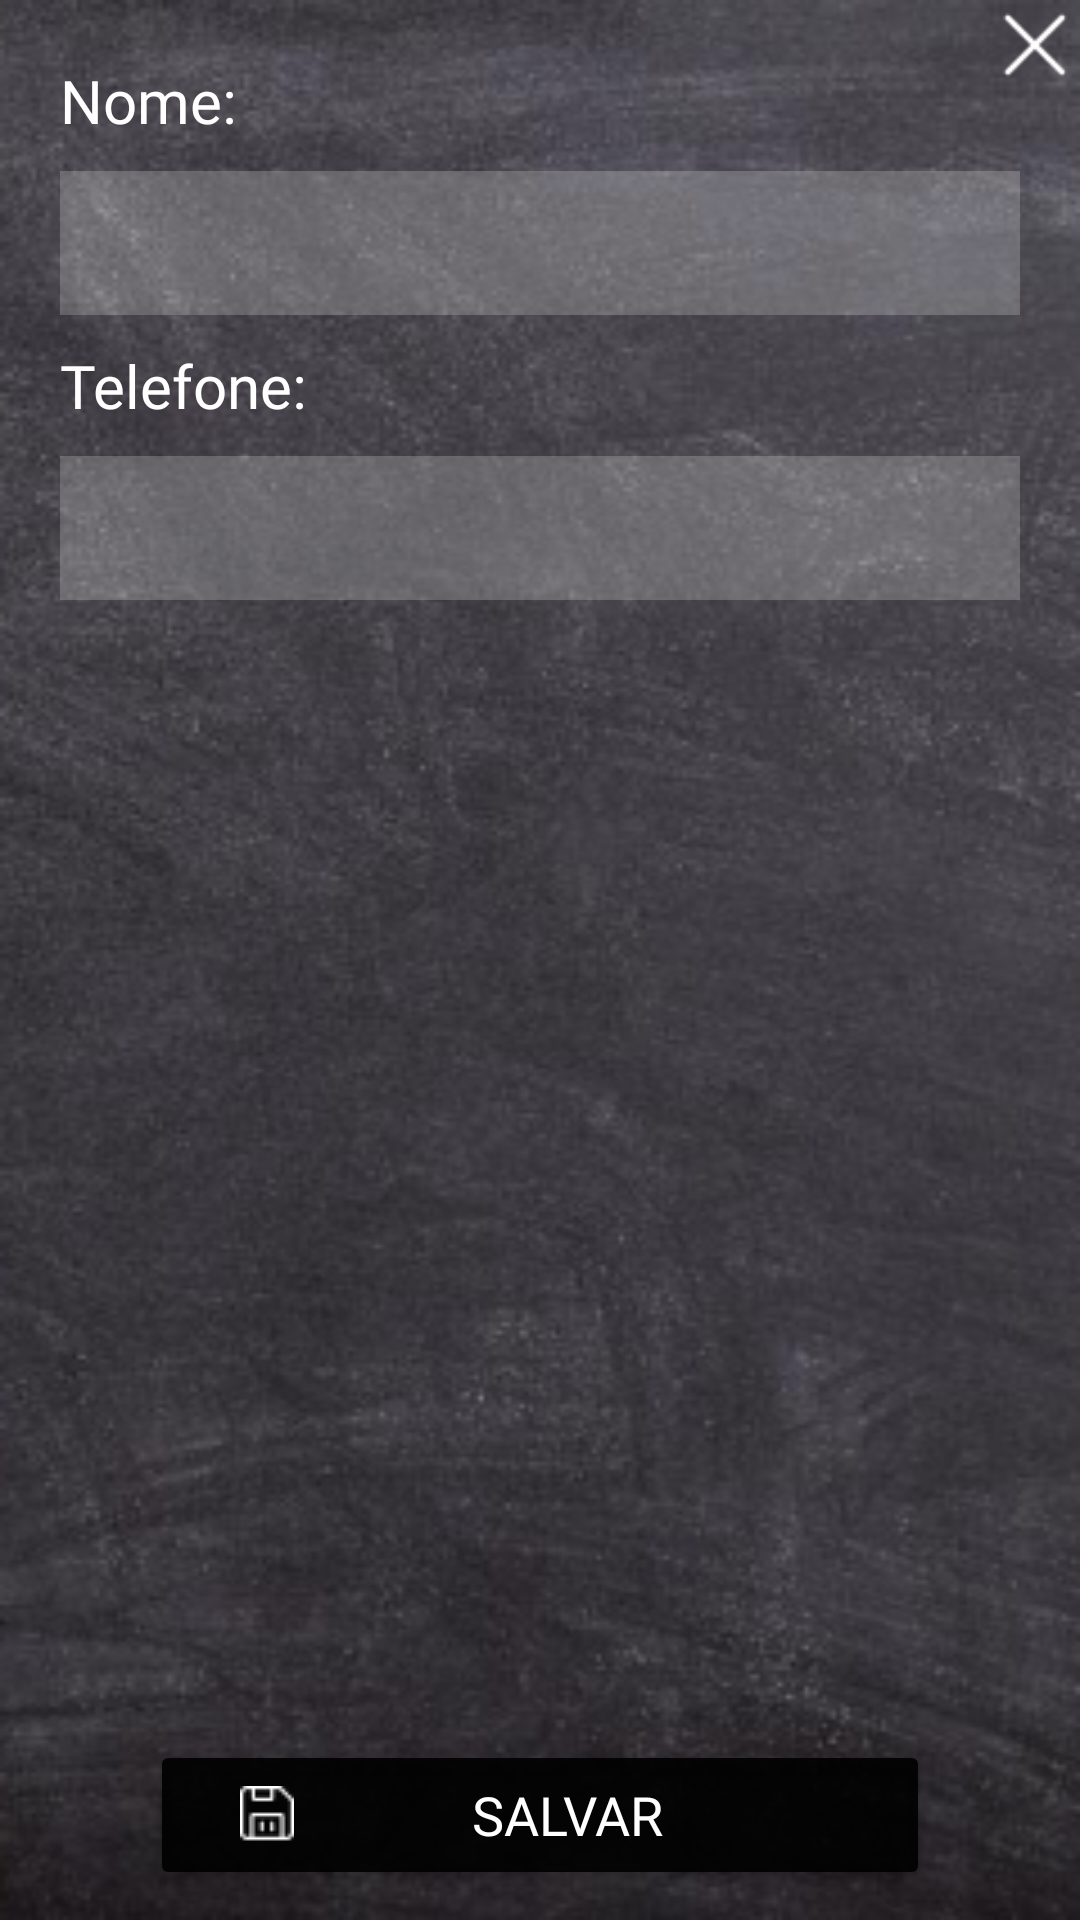

Locate icon controls on the screen. Image size 1080*1920, boxes as (x1, y1, x2, y2).
fechar: (1004, 14, 1067, 84)
